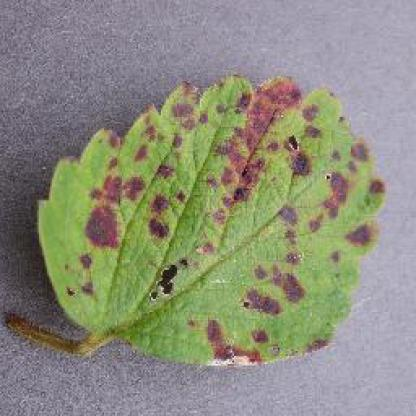leaf scorch: (21, 65, 397, 379)
